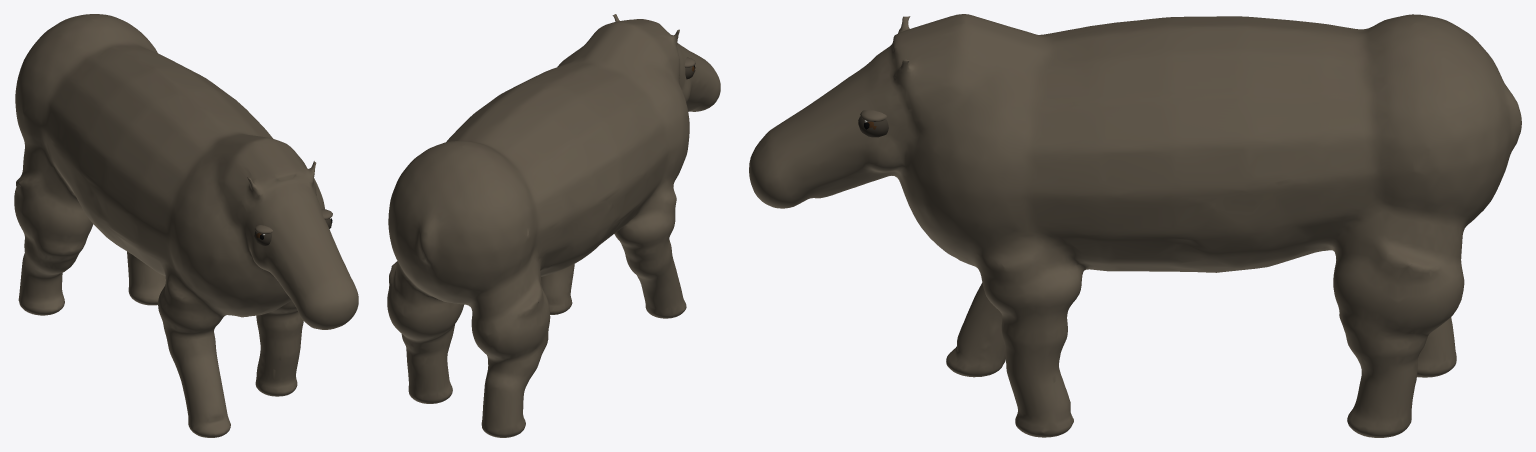
Rendered from NesodonImbricatus.fbx.
3 views of the same model, side by side, from view 1: azimuth 30°, elevation 25°; view 2: azimuth 150°, elevation 25°; view 3: azimuth 270°, elevation 25° (orthographic). The views are drawn at different scales.
Parts seen in each view (by area): view 1: NesodonImbricatus; view 2: NesodonImbricatus; view 3: NesodonImbricatus.
Part boxes in pixels (<box>): NesodonImbricatus: <box>14,14,358,437</box>; NesodonImbricatus: <box>387,14,720,437</box>; NesodonImbricatus: <box>749,14,1521,437</box>.
Size of the model in its own units: 0.5612 by 0.9899 by 1.81.
